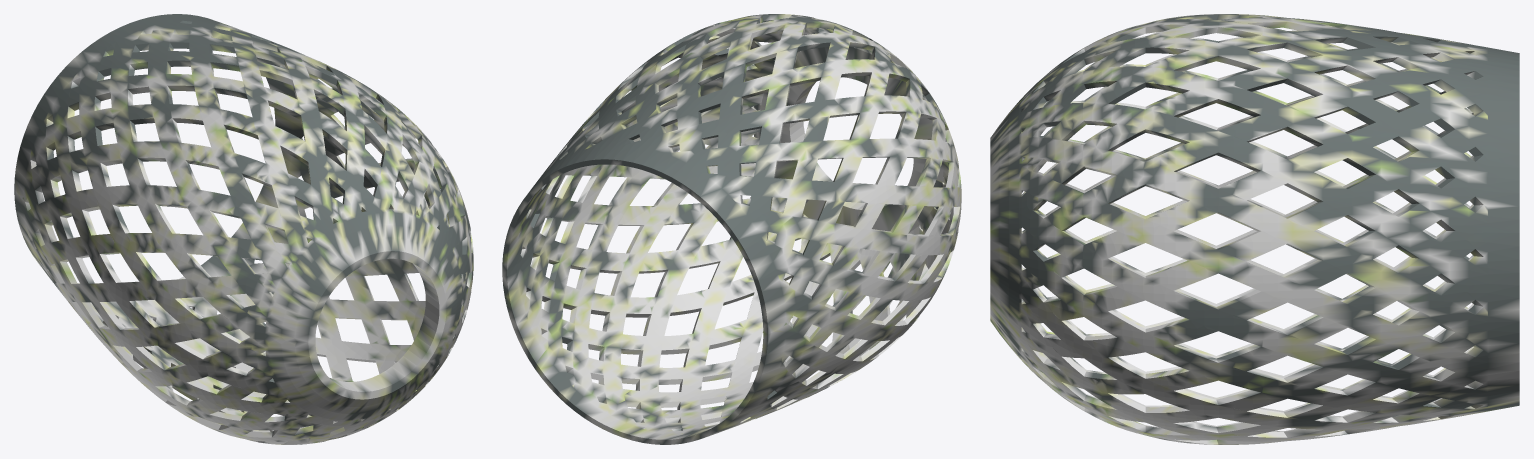
File: lamp_shade_14_final100.obj
3 views of the same model, side by side, from view 1: azimuth 30°, elevation 25°; view 2: azimuth 150°, elevation 25°; view 3: azimuth 270°, elevation 25° (orthographic). The views are drawn at different scales.
Bounding box in the file's own units: 1.21 × 1.21 × 1.49.
